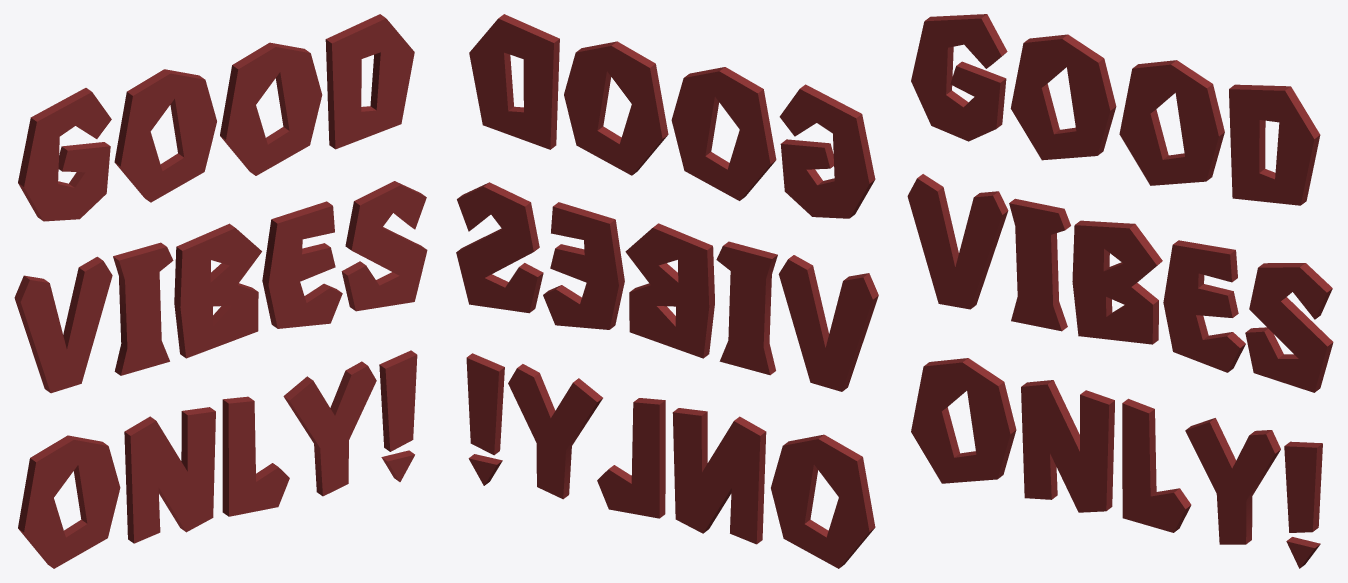
The model's file is Good vibes only.fbx.
3 views of the same model, side by side, from view 1: azimuth 30°, elevation 25°; view 2: azimuth 150°, elevation 25°; view 3: azimuth 330°, elevation 25° (orthographic).
Visible parts, largest first — view 1: Good vibes only; view 2: Good vibes only; view 3: Good vibes only.
Part boxes in pixels (<box>): Good vibes only: <box>14,14,427,568</box>; Good vibes only: <box>456,14,878,568</box>; Good vibes only: <box>907,14,1333,568</box>.
Size of the model in its own units: 0.2448 by 0.267 by 0.00981.
Materials: 1 (1 with a texture image).
